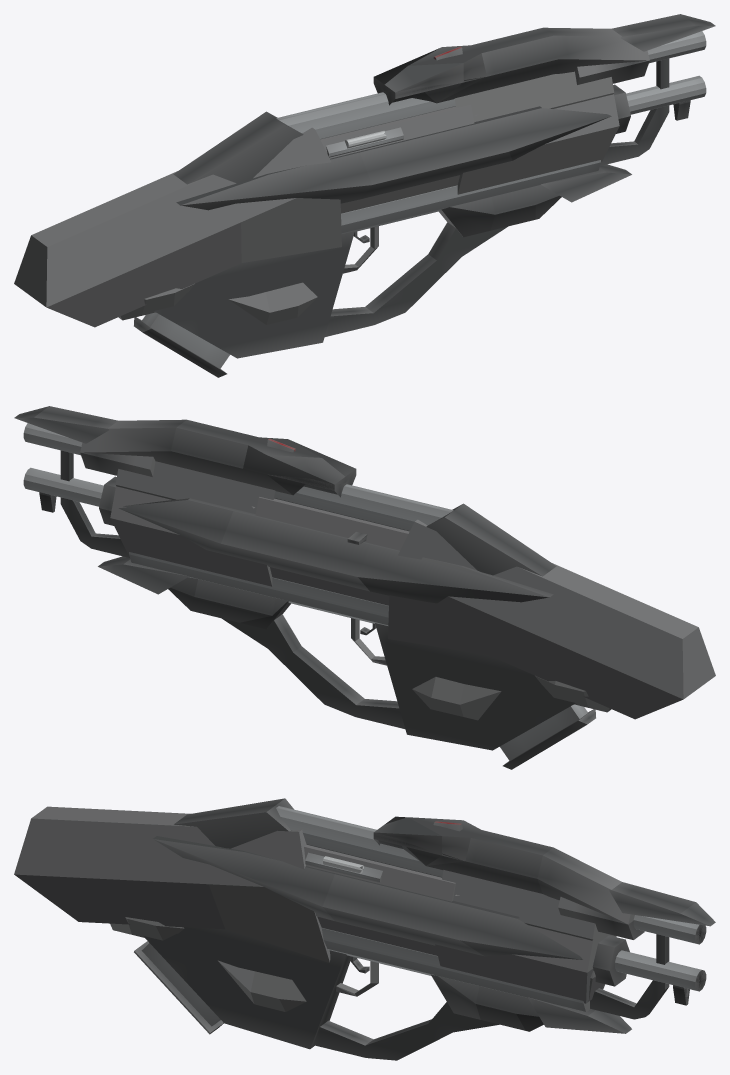
The model's file is Assault Rifle.fbx.
The picture shows the model from 3 angles, top to bottom: view 1: azimuth 30°, elevation 25°; view 2: azimuth 150°, elevation 25°; view 3: azimuth 330°, elevation 25°; orthographic projection.
Parts seen in each view (by area): view 1: cuboid_10, cuboid_25, cuboid, cuboid_9, cuboid_15, cuboid_23, cuboid_18, tube_7, cuboid_11, tube_5, cuboid_19, cuboid_24 (+11 smaller); view 2: cuboid_10, cuboid_25, cuboid, cuboid_9, cuboid_15, cuboid_23, cuboid_19, cuboid_18, tube_7, cuboid_11, tube_5, cuboid_24 (+10 smaller); view 3: cuboid_10, cuboid_25, cuboid, cuboid_9, cuboid_15, tube_7, cuboid_11, cuboid_23, tube_5, cuboid_19, cuboid_18, cuboid_24 (+13 smaller).
Part boxes in pixels (box(x1,y1,x2,y2)): cuboid_10: box(14, 127, 341, 327); cuboid_25: box(176, 106, 611, 210); cuboid: box(154, 231, 354, 358); cuboid_9: box(373, 27, 649, 105); cuboid_15: box(457, 94, 619, 194); cuboid_23: box(324, 222, 507, 336); cuboid_18: box(173, 111, 303, 184); tube_7: box(341, 160, 600, 233); cuboid_11: box(454, 71, 614, 121); tube_5: box(276, 92, 455, 139); cuboid_19: box(320, 105, 474, 213); cuboid_24: box(439, 185, 561, 237); cuboid_10: box(388, 519, 715, 719); cuboid_25: box(119, 498, 553, 603); cuboid: box(375, 623, 575, 750); cuboid_9: box(80, 419, 356, 497); cuboid_15: box(110, 486, 272, 586); cuboid_23: box(222, 614, 405, 728); cuboid_19: box(255, 497, 409, 605); cuboid_18: box(426, 503, 556, 576); tube_7: box(129, 552, 388, 625); cuboid_11: box(115, 461, 275, 513); tube_5: box(274, 484, 453, 531); cuboid_24: box(168, 577, 290, 629); cuboid_10: box(14, 806, 330, 962); cuboid_25: box(153, 836, 582, 959); cuboid: box(143, 927, 350, 1049); cuboid_9: box(373, 816, 634, 924); cuboid_15: box(435, 925, 616, 1003); tube_7: box(321, 928, 589, 1011); cuboid_11: box(442, 870, 601, 940); cuboid_23: box(313, 1002, 499, 1060); tube_5: box(276, 806, 443, 877); cuboid_19: box(304, 845, 455, 955); cuboid_18: box(174, 798, 293, 848); cuboid_24: box(431, 974, 543, 1031).
Size of the model in its own units: 114 by 42.66 by 14.38.
Materials: 1 (1 with a texture image).
